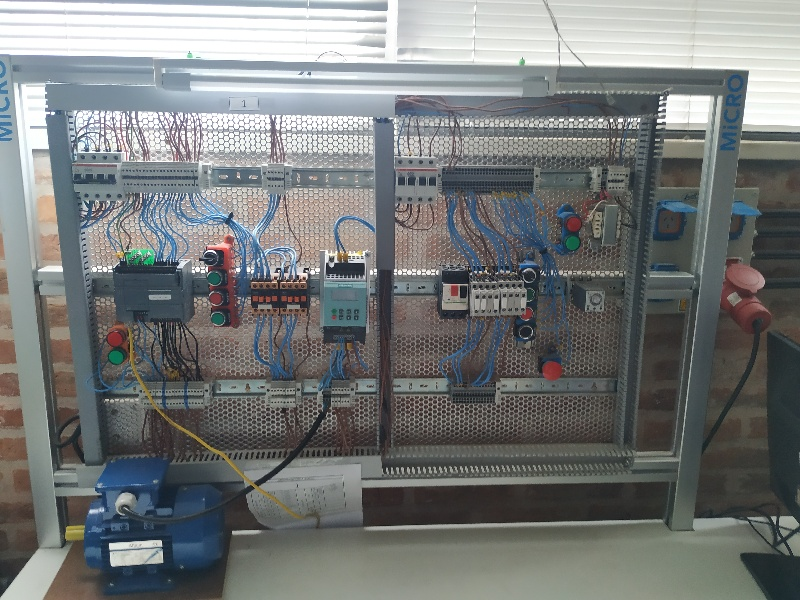Tablero 1: (56, 93, 643, 467)
